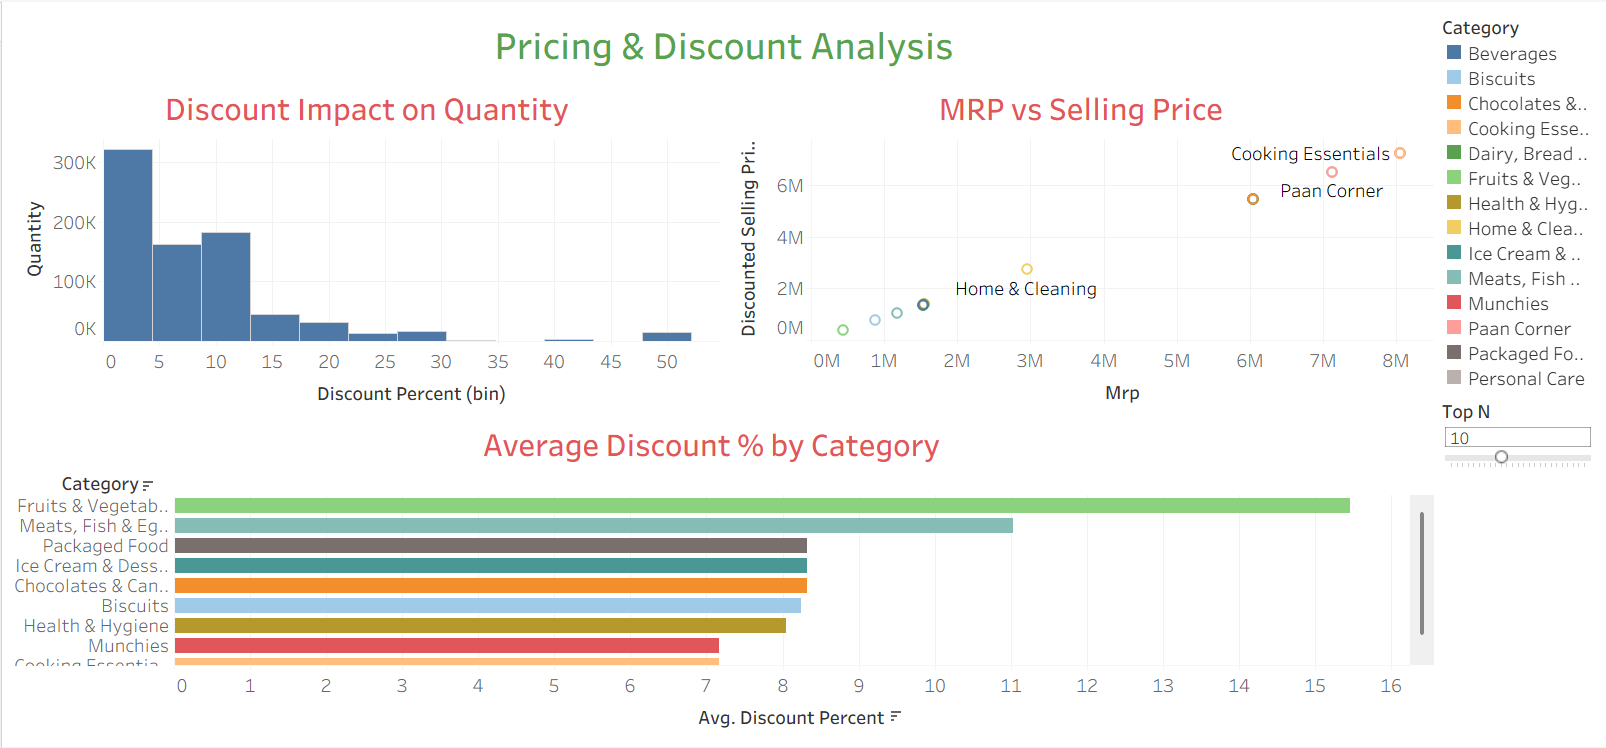

This screenshot's page, from the dashboard's own definition file:
{"tool":"tableau","page":{"name":"Dashboard 2","canvas":[1000,1000],"units":"permille","ordinal":1},"visuals":[{"type":"text","box":[5,10.7,890.3,92.4]},{"type":"legend","title":"Sheet 5","param":"[federated.0m5cgn01dddmoq1el1z6h03l7zhx].[none:Category:nk]","box":[895.3,10.7,99.8,514.7]},{"type":"worksheet","title":"Sheet 7","mark":"Automatic","rows":["quantity"],"cols":["Discount Percent (bin)"],"box":[5,103.1,445.1,451.1]},{"type":"worksheet","title":"Sheet 5","mark":"Automatic","rows":["discountedSellingPrice"],"cols":["mrp"],"box":[450.1,103.1,445.1,451.1]},{"type":"parameter","param":"[Parameters].[Parameter 1]","box":[895.3,525.5,99.8,111.3]},{"type":"worksheet","title":"Sheet 6","mark":"Automatic","rows":["Category"],"cols":["discountPercent"],"box":[5,554.2,890.3,435.1]}]}

Visuals, with their boxes on the dashboard's canvas, which has no fixed pixel size, in thousandths of its width and height (x1, y1, x2, y2). These are canvas units, not pixel positions in the 1606x748 screenshot, which may show the page scaled, cropped or inside an application window:
text: Rect(5, 11, 895, 103)
"Sheet 5" legend: Rect(895, 11, 995, 525)
"Sheet 7" worksheet: Rect(5, 103, 450, 554)
"Sheet 5" worksheet: Rect(450, 103, 895, 554)
parameter: Rect(895, 526, 995, 637)
"Sheet 6" worksheet: Rect(5, 554, 895, 989)
